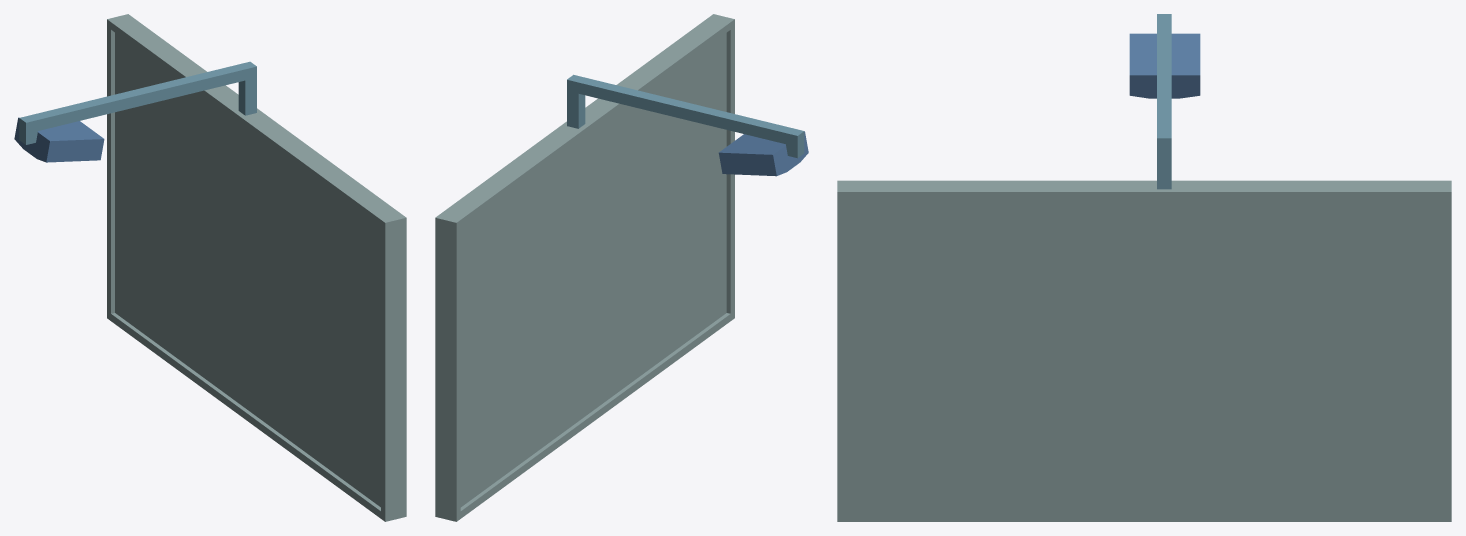
File: Bord met beamer.fbx
3 renders of one model, left to right at view 1: azimuth 30°, elevation 25°; view 2: azimuth 150°, elevation 25°; view 3: azimuth 270°, elevation 25°, orthographic. The views are drawn at different scales.
Parts seen in each view (by area): view 1: pCube42; view 2: pCube42; view 3: pCube42.
Part boxes in pixels (left/top/right/bottom): pCube42: left=14, top=14, right=406, bottom=521; pCube42: left=435, top=14, right=808, bottom=521; pCube42: left=837, top=14, right=1451, bottom=521.
Size of the model in its own units: 1.02 by 1.43 by 2.09.
